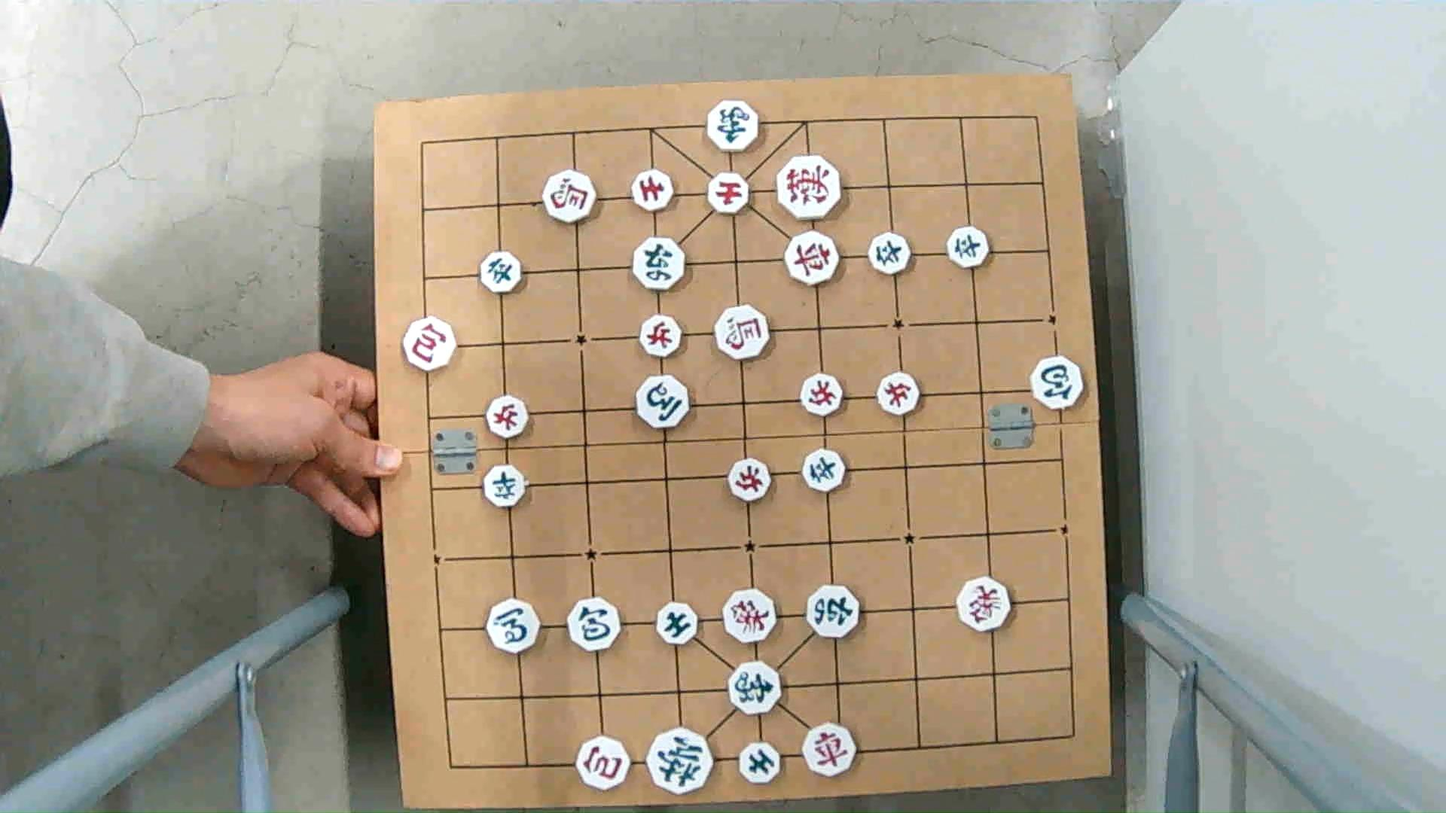cha_green: (629, 237, 685, 288), (805, 586, 862, 635)
cha_red: (786, 236, 838, 282), (806, 726, 855, 774)
jol_green: (480, 467, 527, 507), (802, 450, 848, 489), (945, 227, 990, 266), (477, 253, 522, 292), (868, 234, 914, 272)
jol_red: (636, 315, 684, 355), (726, 459, 772, 500), (484, 397, 530, 437), (876, 374, 921, 414), (798, 376, 844, 414)
ma_green: (487, 601, 544, 653), (634, 378, 691, 427)
ma_red: (713, 307, 773, 358), (540, 171, 596, 219)
po_green: (568, 601, 624, 650), (1030, 361, 1084, 410)
po_red: (575, 738, 633, 789), (399, 322, 457, 370)
sa_green: (654, 606, 701, 645), (740, 744, 782, 783)
sa_red: (627, 172, 676, 210), (706, 174, 754, 212)
sang_green: (709, 102, 757, 150), (730, 663, 777, 711)
sang_red: (723, 591, 779, 642), (956, 582, 1011, 632)
wang_green: (648, 734, 713, 790)
wang_red: (778, 158, 841, 214)
